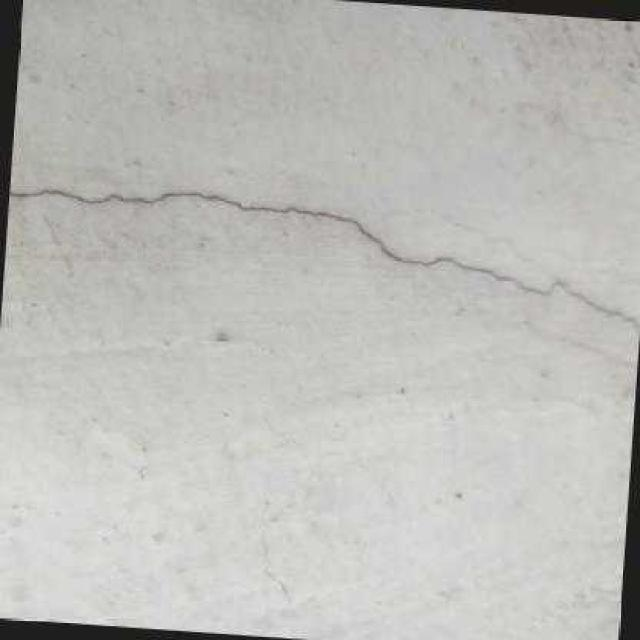D00: (8, 190, 640, 334)
